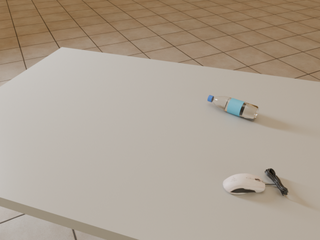bottle: (208, 95, 259, 120)
mouse: (223, 174, 266, 194)
